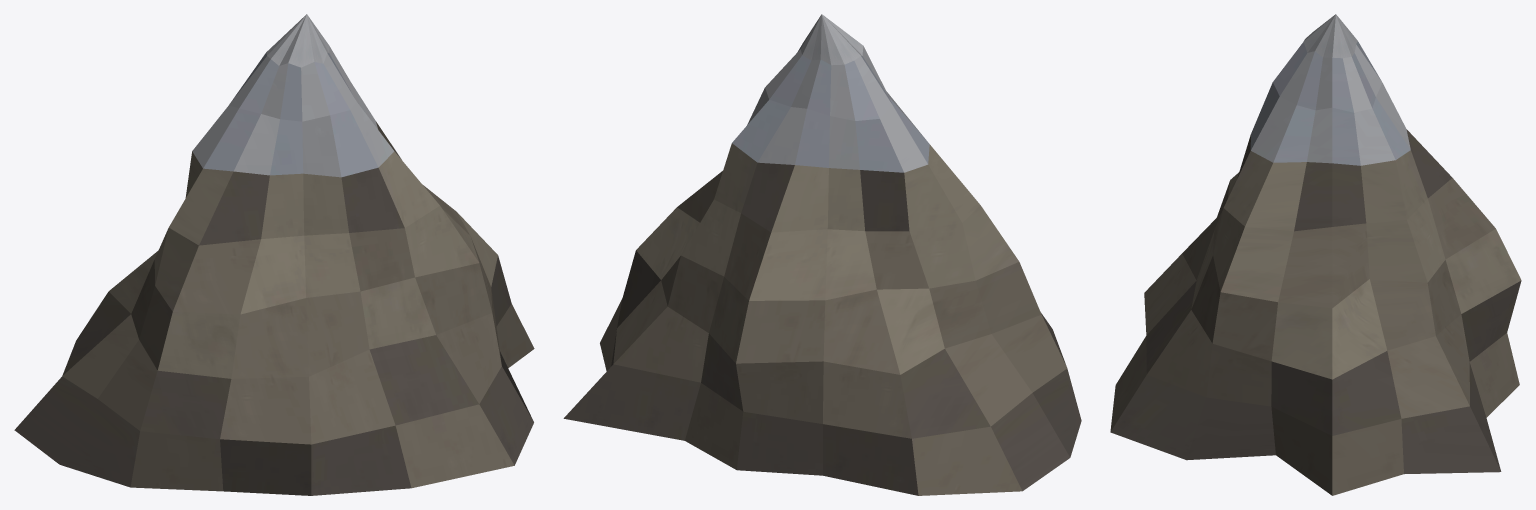
The model's file is mountain_01.glb.
3 views of the same model, side by side, from view 1: azimuth 30°, elevation 25°; view 2: azimuth 150°, elevation 25°; view 3: azimuth 270°, elevation 25° (orthographic). The views are drawn at different scales.
Visible parts, largest first — view 1: mountain_01; view 2: mountain_01; view 3: mountain_01.
Part boxes in pixels (<box>): mountain_01: <box>14,14,534,495</box>; mountain_01: <box>563,14,1081,495</box>; mountain_01: <box>1110,14,1521,495</box>.
Size of the model in its own units: 15.1 by 11.8 by 11.71.
5 materials, 5 textured.
